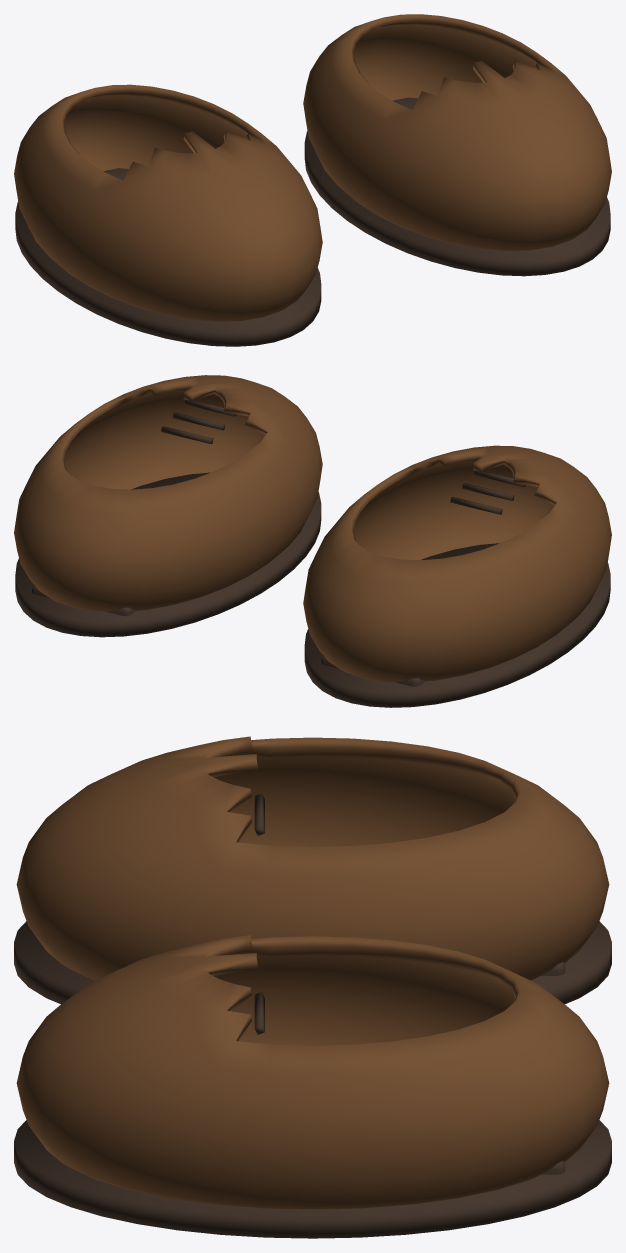
Rendered from tufli2.fbx.
3 renders of one model, top to bottom at view 1: azimuth 30°, elevation 25°; view 2: azimuth 150°, elevation 25°; view 3: azimuth 270°, elevation 25°, orthographic. The views are drawn at different scales.
Visible parts, largest first — view 1: tufli2; view 2: tufli2; view 3: tufli2.
Part boxes in pixels (left/top/right/bottom): tufli2: left=14, top=14, right=611, bottom=346; tufli2: left=14, top=375, right=611, bottom=707; tufli2: left=14, top=736, right=611, bottom=1238.
Bounding box in the file's own units: 0.63 × 0.176 × 0.45.
